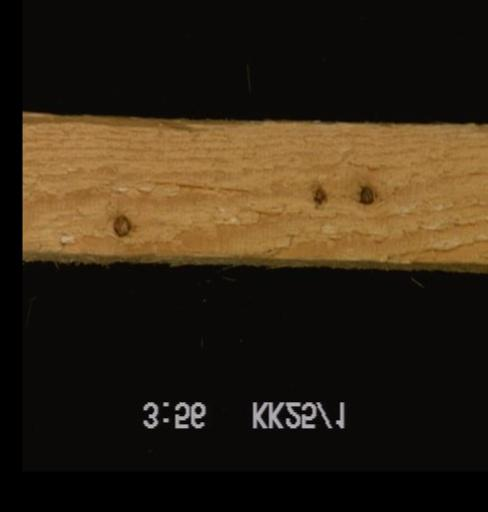dry_knot: (110, 213, 130, 238), (311, 187, 327, 209), (357, 184, 373, 205)
split: (132, 179, 256, 199)
wave: (22, 113, 198, 139)
